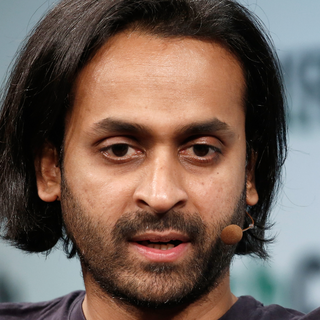eye: (95, 139, 144, 165), (177, 139, 224, 165)
